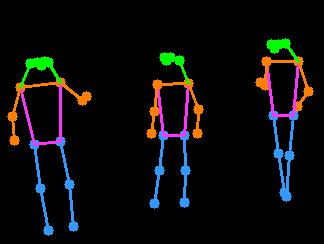normal: (1, 50, 100, 241), (129, 42, 214, 225), (247, 31, 317, 212)
